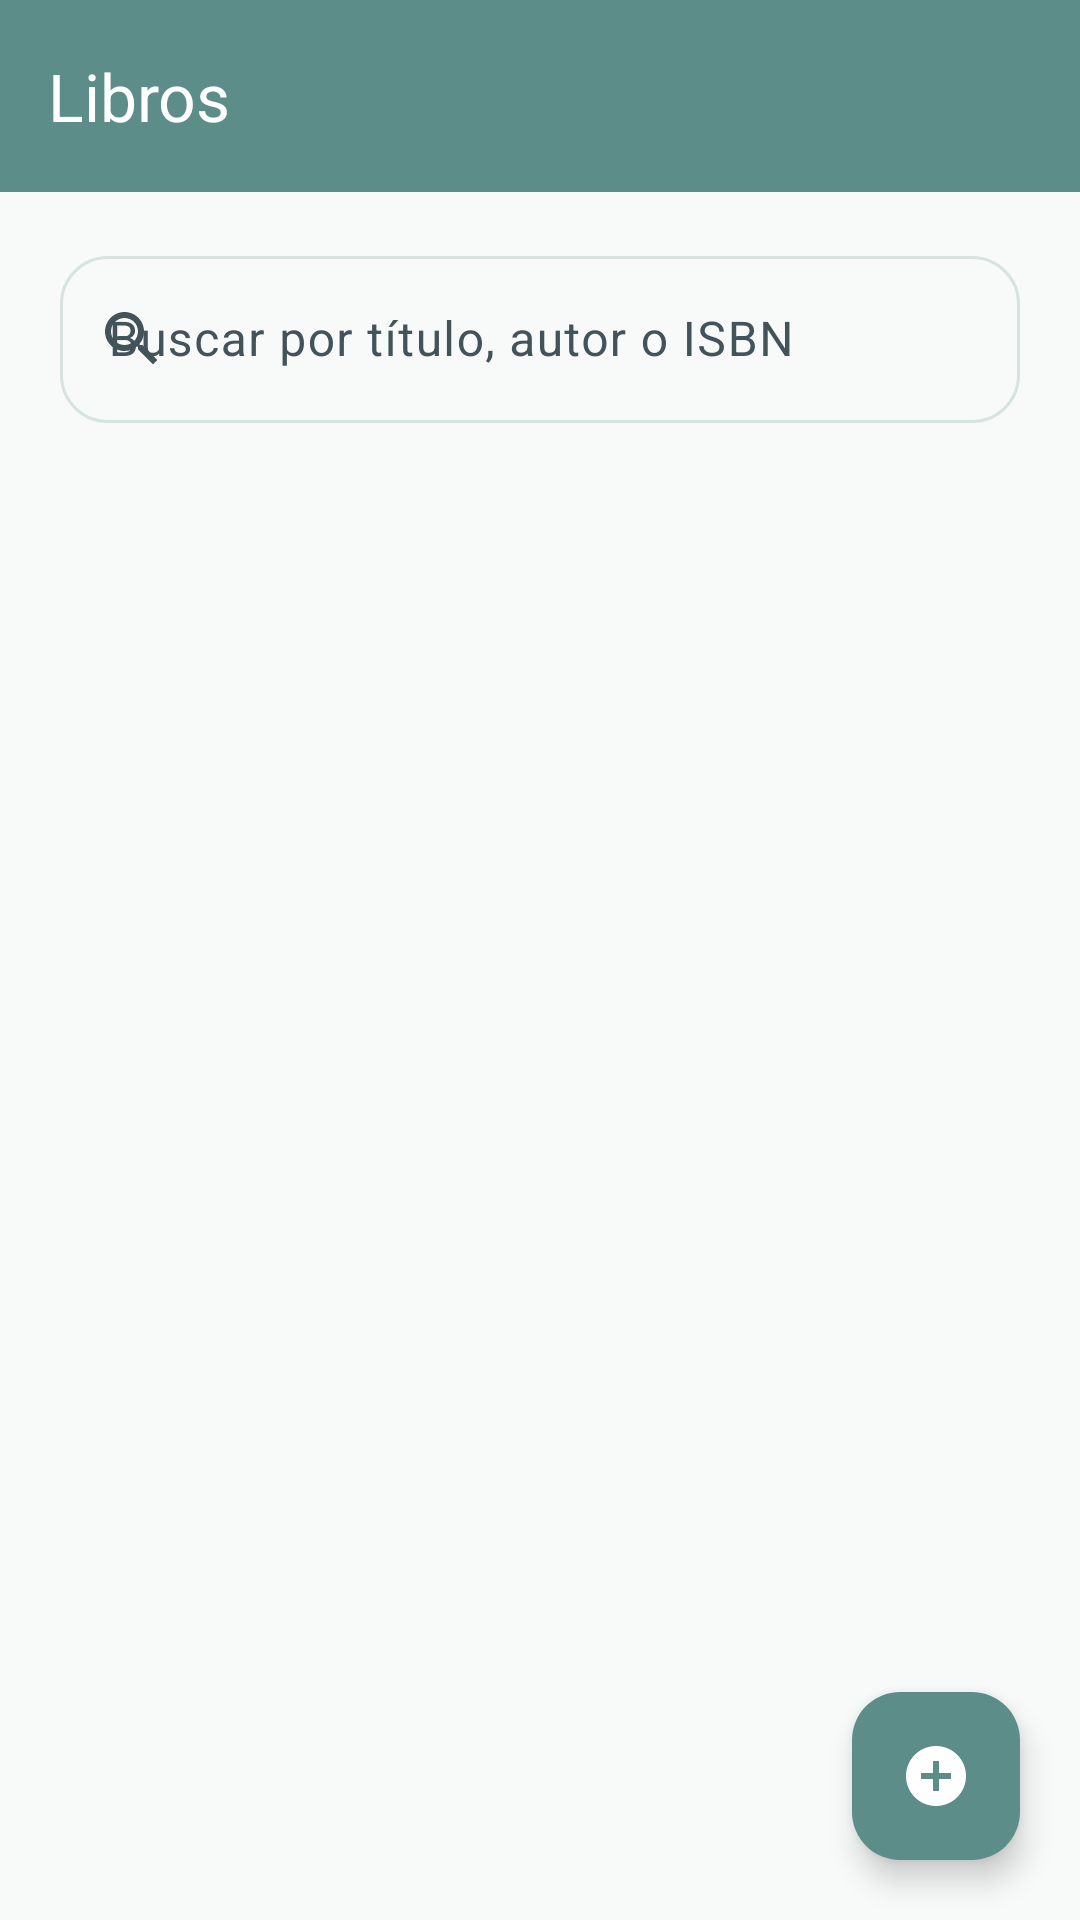

Icons on this 1080×1920 Android screen, each with the point to tap as (x=x, y=y):
Añadir libro: (x=936, y=1776)
